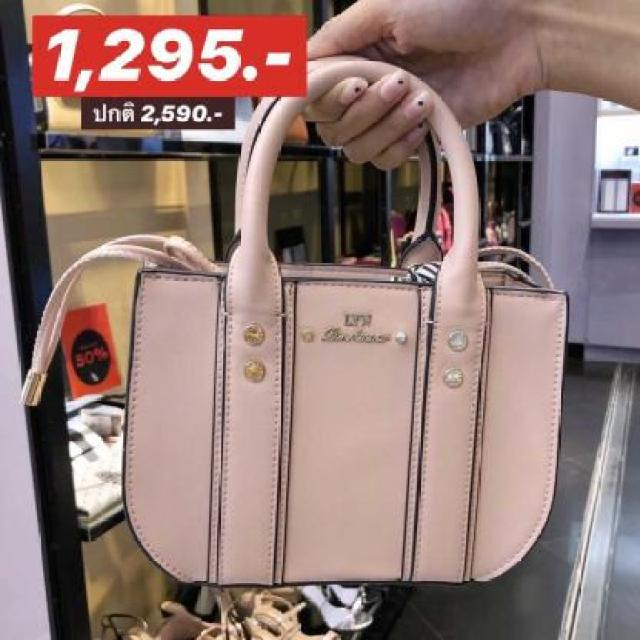Bag: (79, 4, 610, 630)
